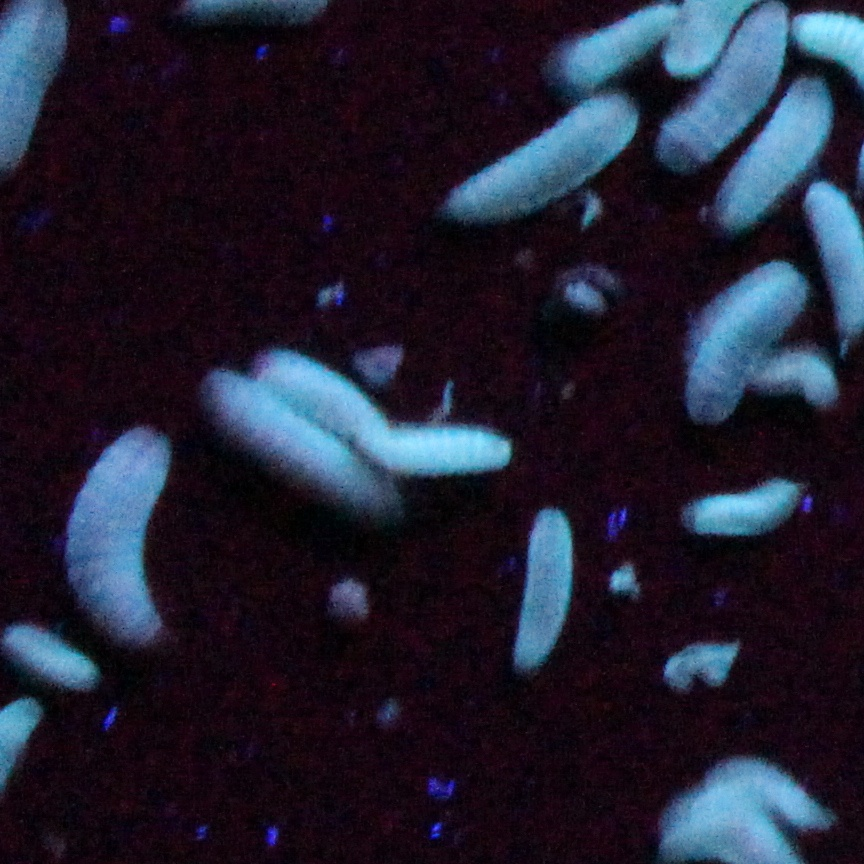larve: (208, 371, 408, 521), (435, 96, 639, 213), (66, 419, 164, 651), (654, 3, 791, 163), (687, 267, 804, 419), (712, 80, 829, 230), (258, 348, 389, 434), (552, 11, 683, 86), (514, 507, 570, 665), (683, 478, 800, 532), (8, 628, 100, 686), (370, 432, 514, 469)
